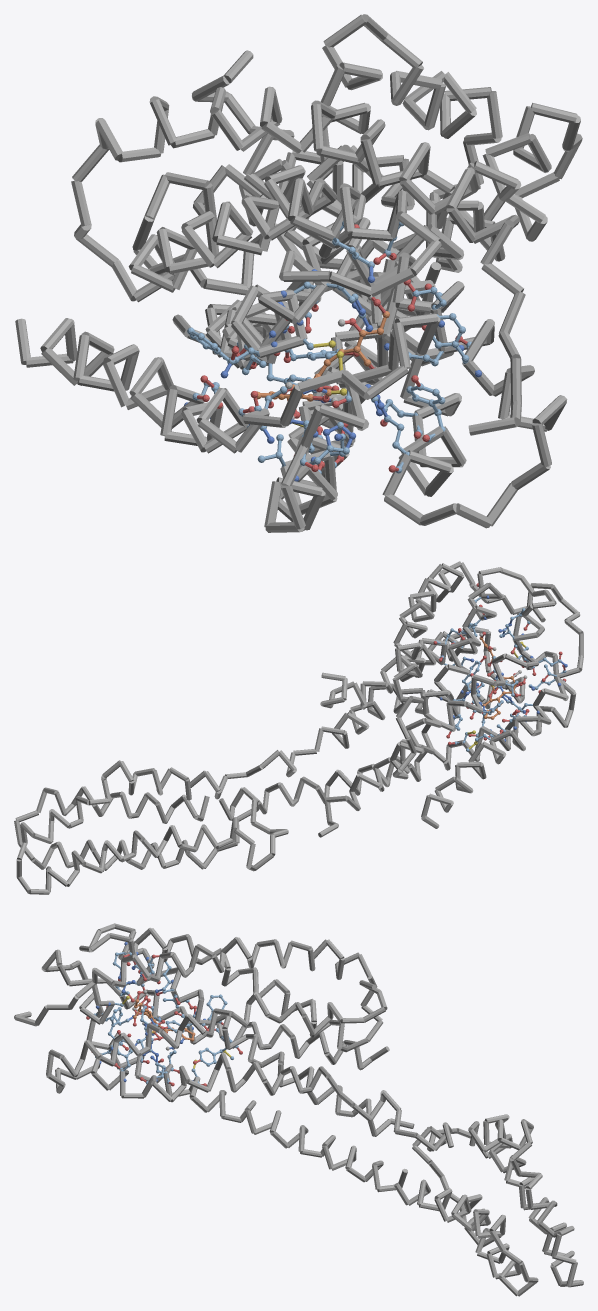
The model's file is P2Y12_HUMAN.glb.
3 views of the same model, one above another, from view 1: azimuth 30°, elevation 25°; view 2: azimuth 150°, elevation 25°; view 3: azimuth 270°, elevation 25° (orthographic). The views are drawn at different scales.
Parts seen in each view (by area): view 1: backbone, pocket_residues, ligand; view 2: backbone, pocket_residues, ligand; view 3: backbone, pocket_residues, ligand.
Part boxes in pixels (bbox=[...]): backbone: bbox=[15, 14, 582, 532]; pocket_residues: bbox=[184, 221, 481, 481]; ligand: bbox=[257, 295, 389, 419]; backbone: bbox=[14, 561, 583, 894]; pocket_residues: bbox=[433, 583, 567, 751]; ligand: bbox=[479, 631, 527, 719]; backbone: bbox=[14, 923, 583, 1296]; pocket_residues: bbox=[86, 942, 242, 1086]; ligand: bbox=[132, 990, 195, 1050].
Size of the model in its own units: 71.52 by 42.32 by 91.09.
